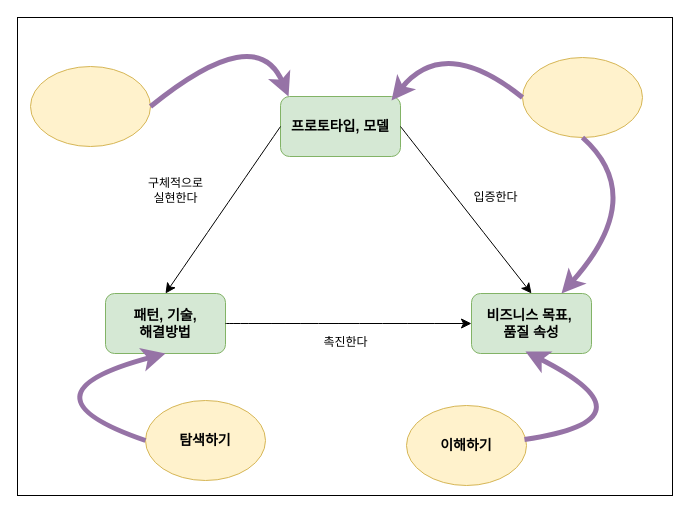
This 690x513 diagram has some shape labels left out. The centre of each missing label's shape, as x and y in pixels:
실현하기: point 90,106
평가하기: point 582,97
